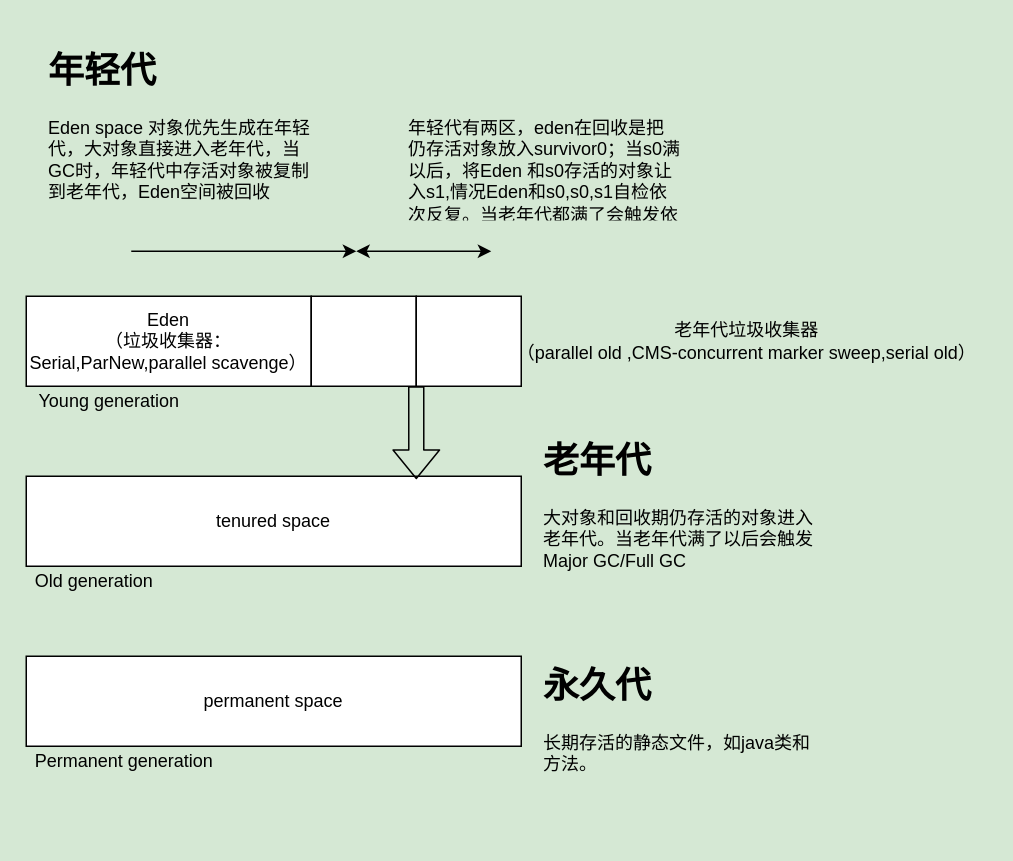
The diagram is 1013 pixels wide and 861 high, and some of its shapes have lost their labels. The centre of each missing label's shape, as x and y in pixels:
survivor0: [363,340]
survivor1: [468,340]
